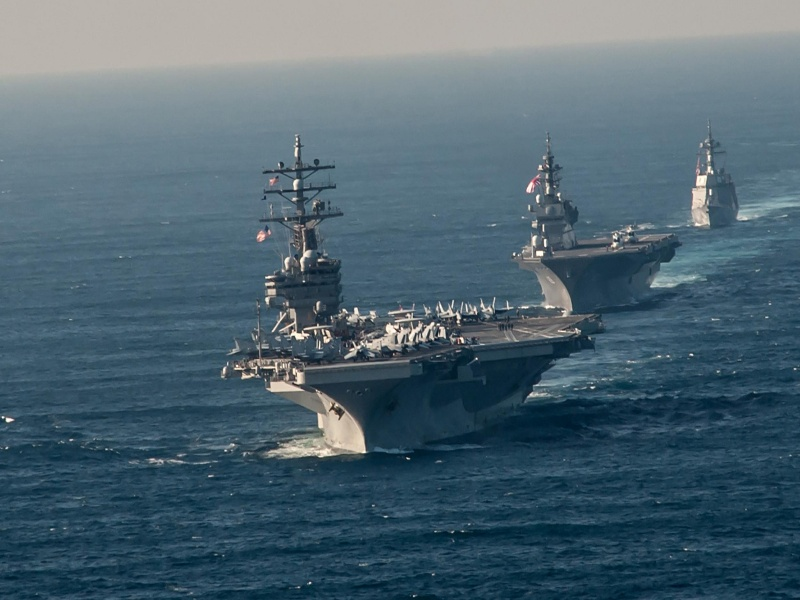carrier: (261, 164, 592, 446), (511, 138, 674, 302)
cruise: (684, 126, 747, 233)
